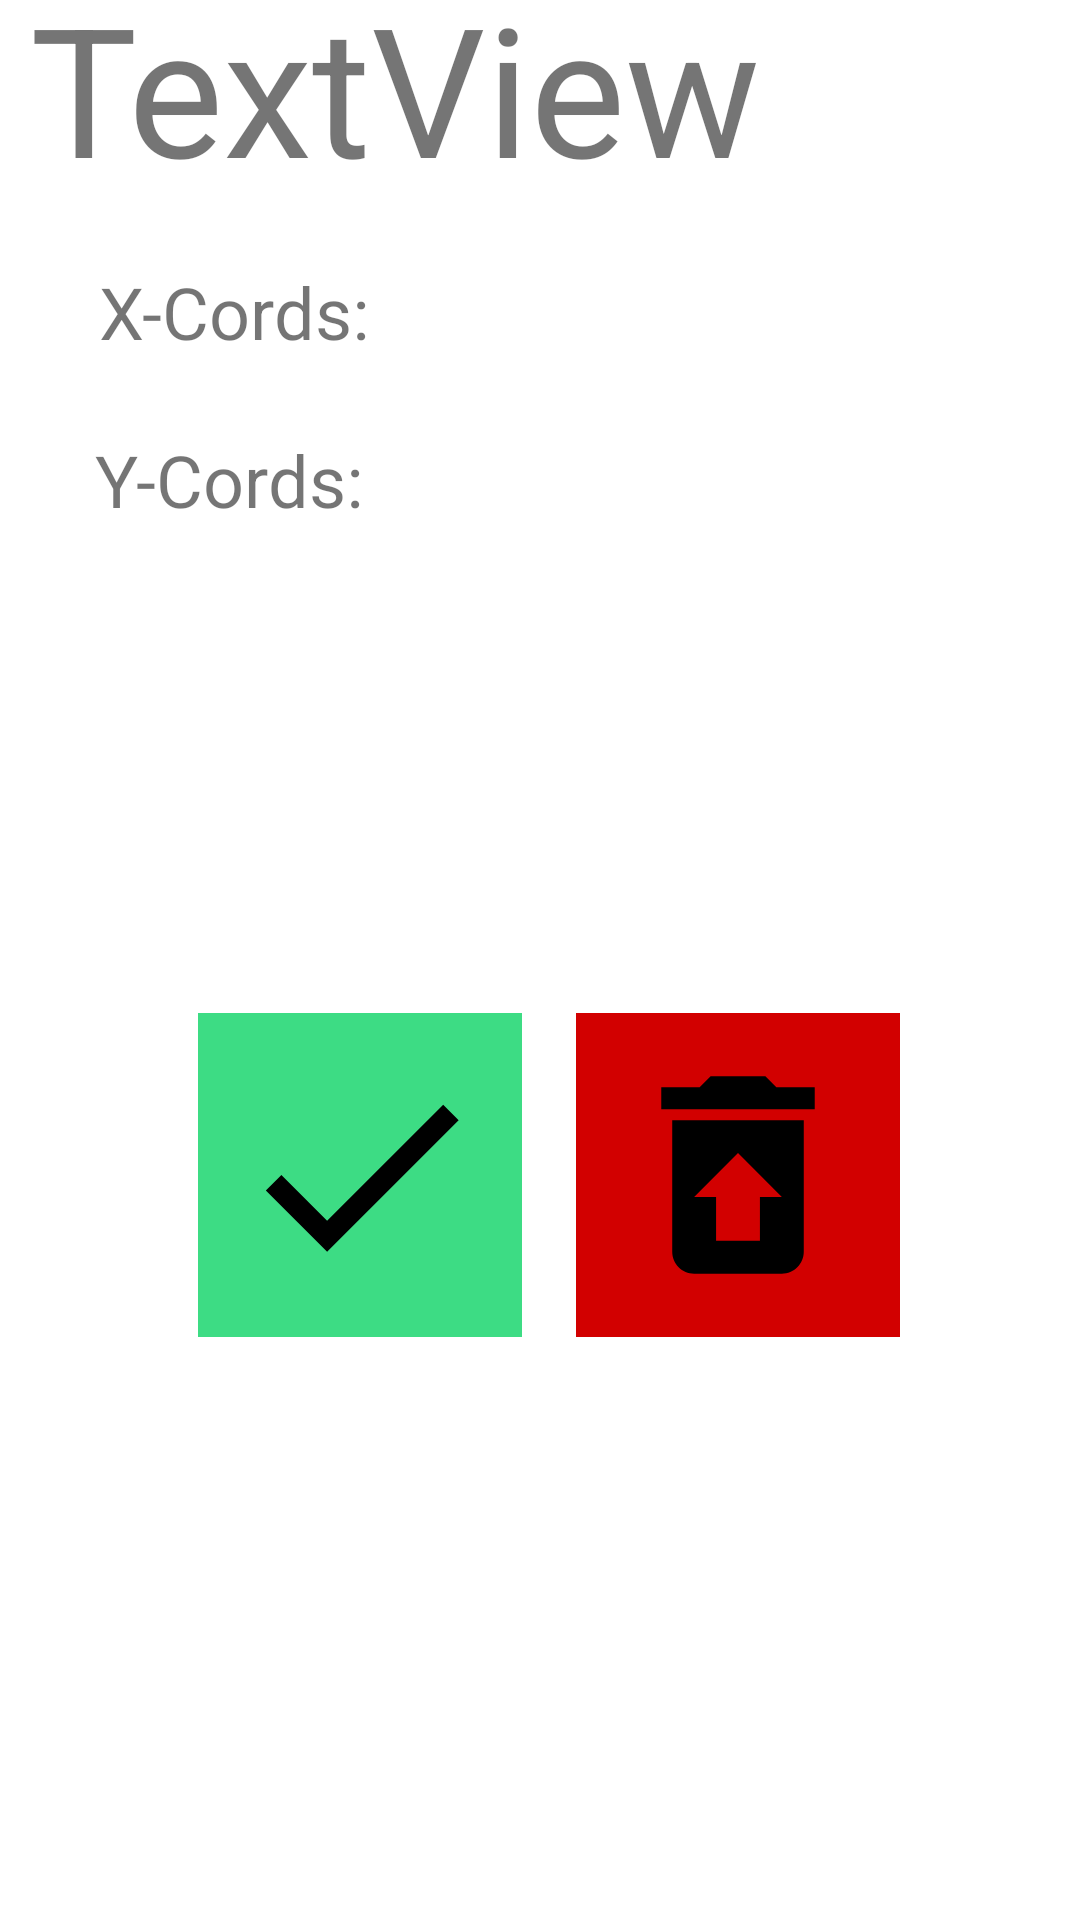

Screen size 1080 × 1920. Icon name, then its box in pixels as (x1, y1, x2, y2):
tool config detail trash: (576, 1013, 900, 1337)
